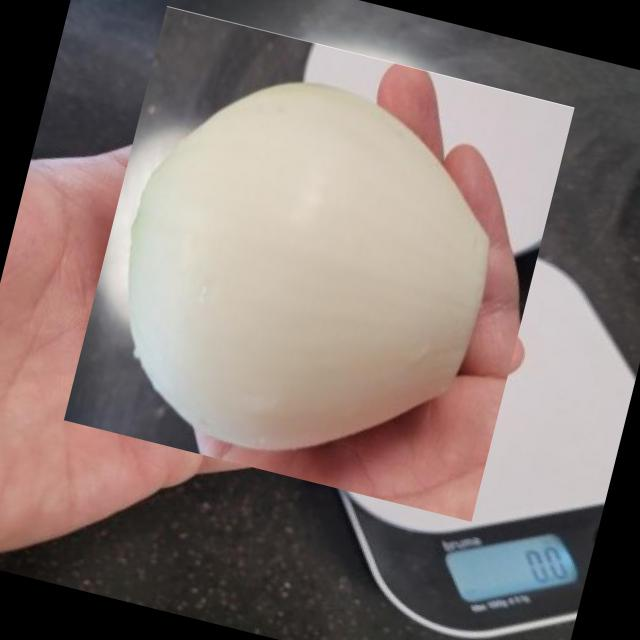Onion: (62, 7, 576, 521)
